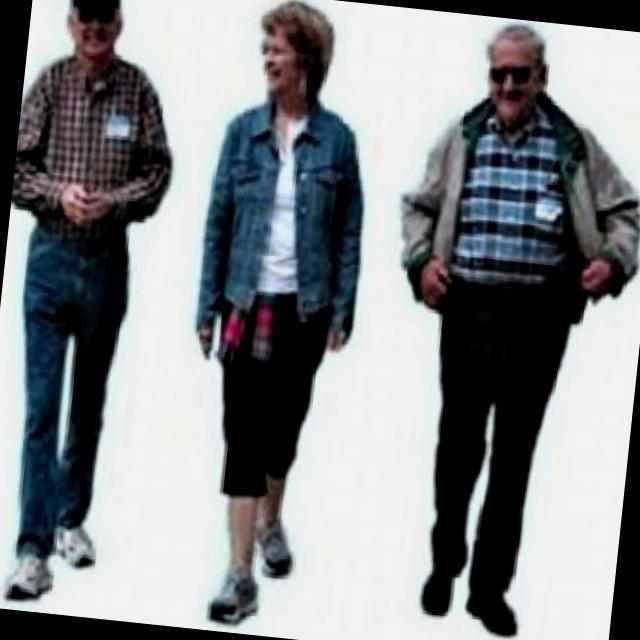Person: (358, 9, 640, 640), (167, 0, 390, 634), (0, 0, 191, 613)
